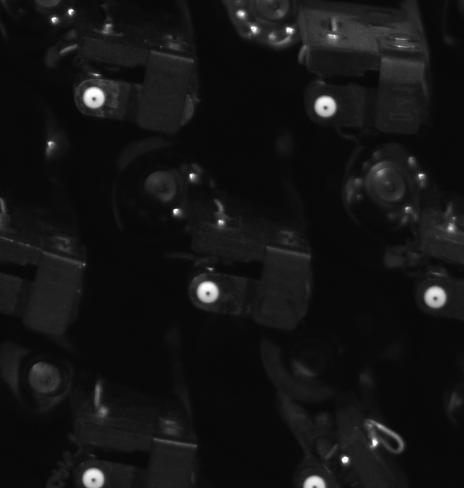fiber: (309, 91, 347, 121), (419, 281, 450, 312), (194, 278, 224, 308), (81, 84, 111, 112), (77, 465, 110, 488), (297, 470, 333, 488)
